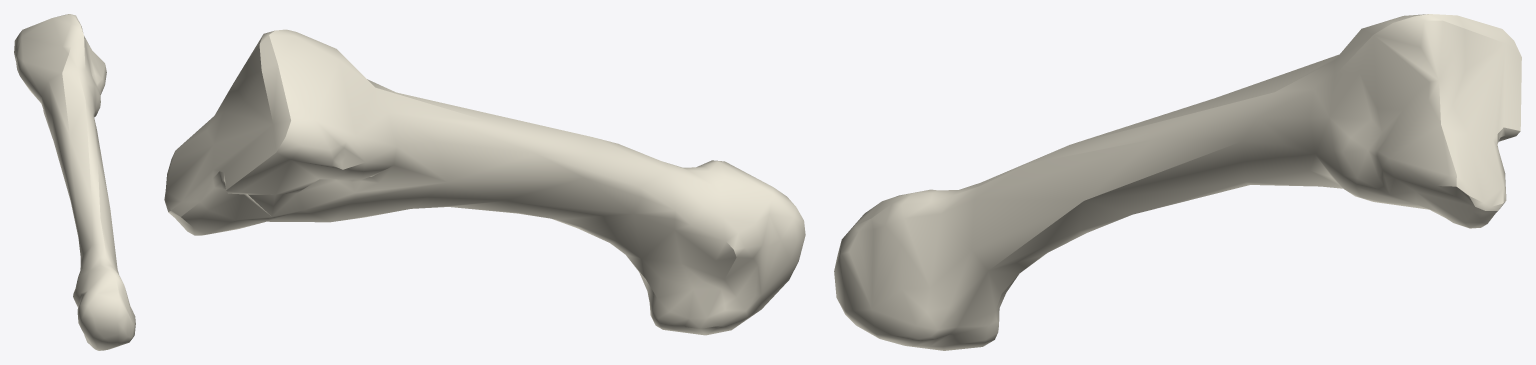
File: fma24511_fj6449.glb
3 views of the same model, side by side, from view 1: azimuth 30°, elevation 25°; view 2: azimuth 150°, elevation 25°; view 3: azimuth 270°, elevation 25° (orthographic). The views are drawn at different scales.
Visible parts, largest first — view 1: FMA24511_FJ6449; view 2: FMA24511_FJ6449; view 3: FMA24511_FJ6449.
Boxes of the visible parts, left/top/right/bottom form: FMA24511_FJ6449: left=14, top=14, right=135, bottom=350; FMA24511_FJ6449: left=164, top=29, right=805, bottom=335; FMA24511_FJ6449: left=834, top=14, right=1521, bottom=350.
Size of the model in its own units: 0.0352 by 0.0426 by 0.0625.
